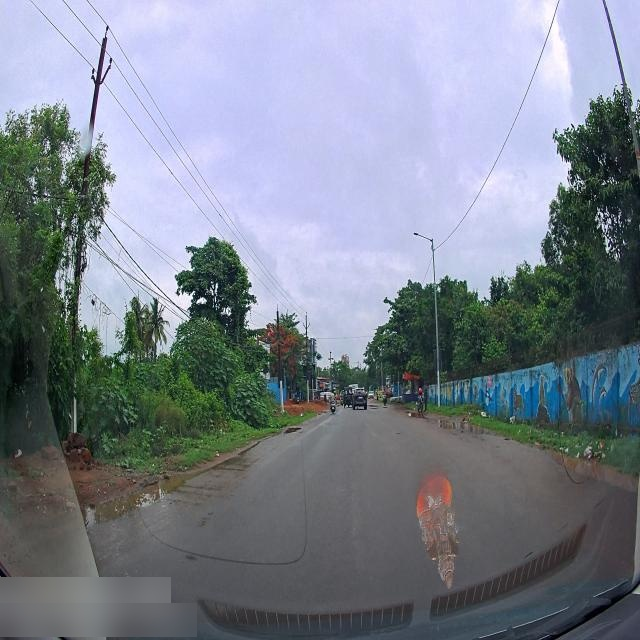pothole: (87, 472, 184, 529), (285, 419, 300, 439)
